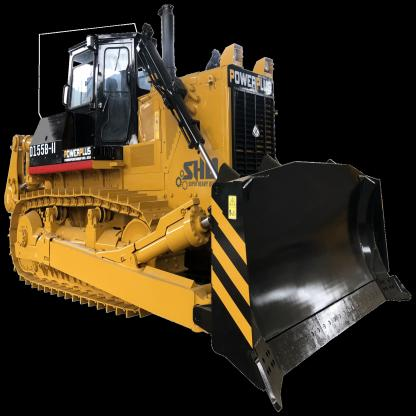bull_dozer/loader/grader: (2, 19, 414, 407)
